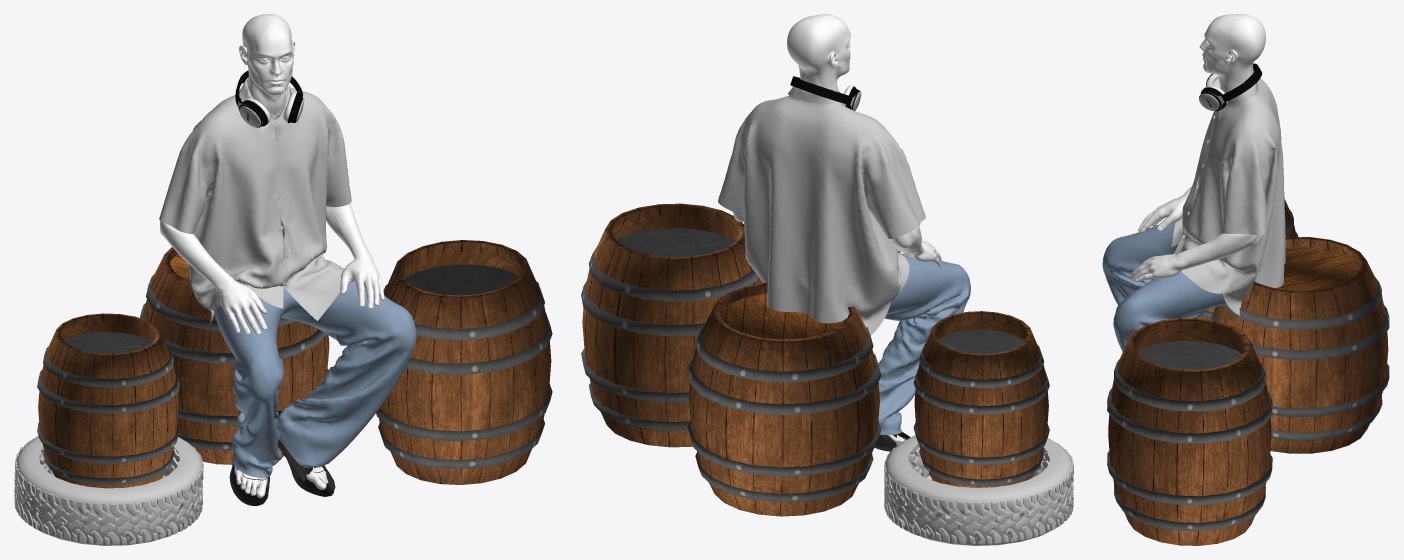
The model's file is man on drum.fbx.
3 renders of one model, left to right at view 1: azimuth 30°, elevation 25°; view 2: azimuth 150°, elevation 25°; view 3: azimuth 270°, elevation 25°, orthographic. The views are drawn at different scales.
Parts seen in each view (by area): view 1: final g1.002, Cylinder008.002, Cylinder008.001, Cylinder008, Tyre_high_Plane; view 2: final g1.002, Cylinder008, Cylinder008.002, Cylinder008.001, Tyre_high_Plane, Cylinder006; view 3: Cylinder008.002, final g1.002, Cylinder008, Cylinder006, Cylinder008.001.
Boxes of the visible parts, x1,y1,x2,y2 form: final g1.002: (159,14,416,505); Cylinder008.002: (376,240,552,484); Cylinder008.001: (37,313,179,488); Cylinder008: (140,247,329,464); Tyre_high_Plane: (14,436,203,545); final g1.002: (718,14,970,451); Cylinder008: (687,282,881,516); Cylinder008.002: (581,203,762,447); Cylinder008.001: (913,311,1049,487); Tyre_high_Plane: (884,435,1073,545); Cylinder006: (719,293,846,339); Cylinder008.002: (1107,318,1272,545); final g1.002: (1102,14,1285,351); Cylinder008: (1212,237,1389,453); Cylinder006: (1276,247,1360,290); Cylinder008.001: (1196,199,1298,320).
Bounding box in the file's own units: 3.64 × 3.26 × 1.99.
